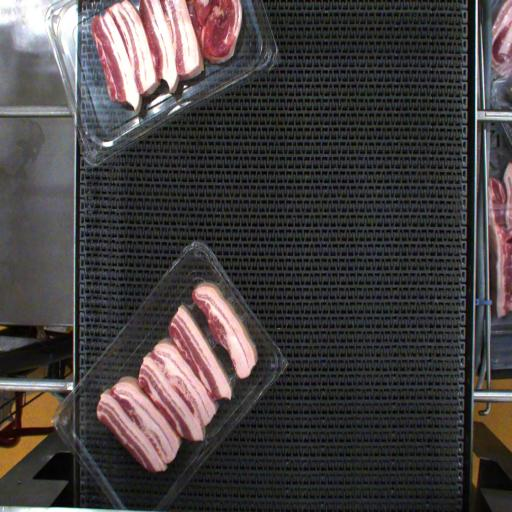loose-meat: (194, 276, 272, 382)
packaging-error: (218, 273, 257, 322), (226, 371, 242, 393), (184, 298, 201, 316), (206, 329, 220, 350)
